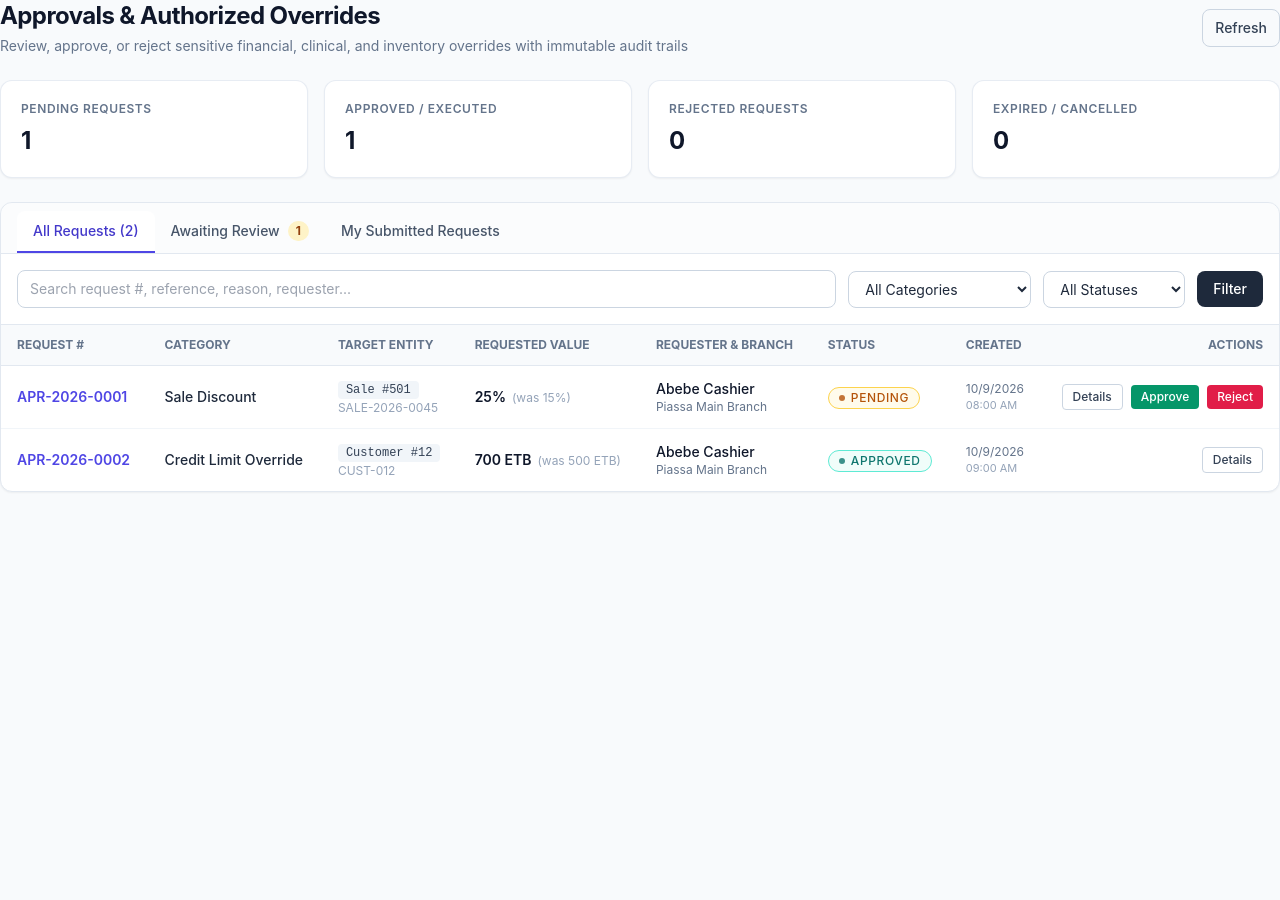
Test: ApprovalsPage & ApprovalDetailPage Frontend Tests › enforces mandatory rejection reason in decision dialog
expect the link "APR-2026-0001" is shown: met, box [17,388,127,405]
Click the button "Reject" at [1235, 397], box [1207,385,1263,409]
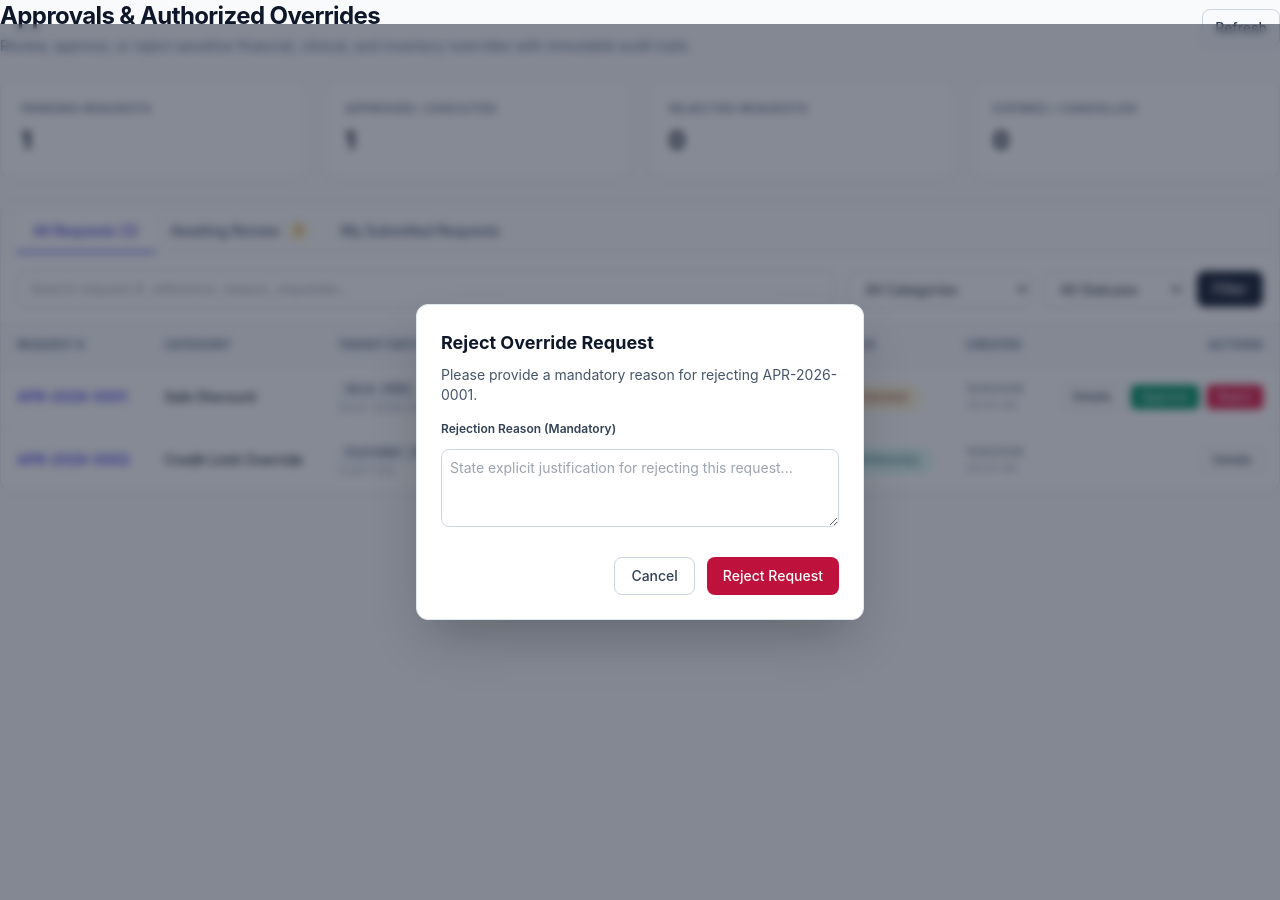
expect the heading "Reject Override Request" is shown: met, box [441,332,654,353]
// Confirm button without reason should display error
Click the button "Reject Request" at [773, 576], box [707,557,839,595]
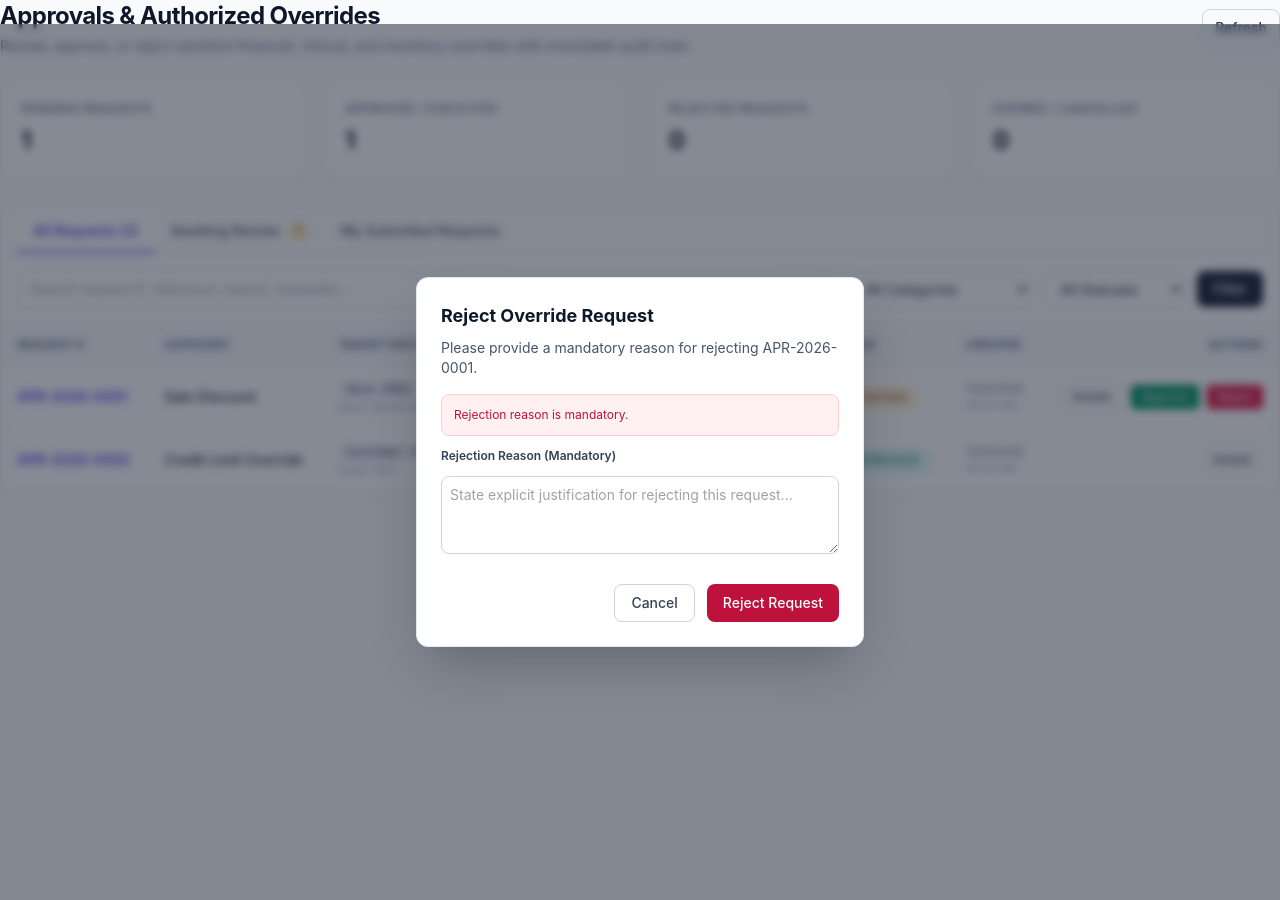
expect the text "Rejection reason is mandatory." is shown: met, box [441,394,839,436]
